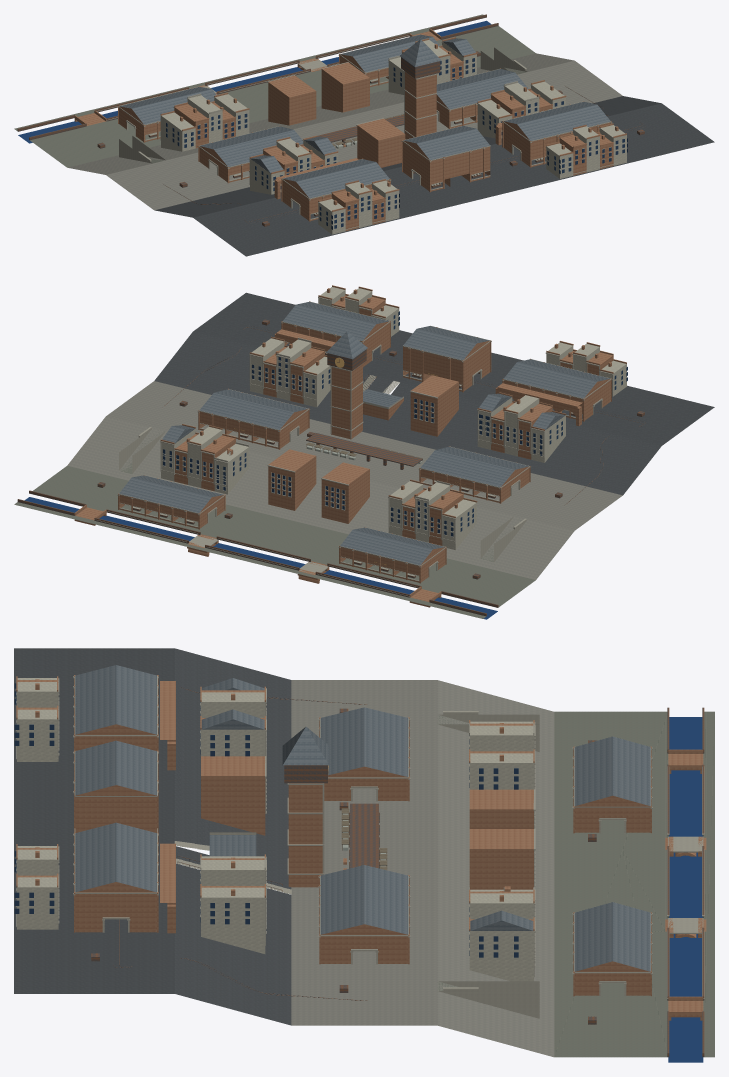
File: candidate.glb
The picture shows the model from 3 angles, top to bottom: view 1: azimuth 30°, elevation 25°; view 2: azimuth 150°, elevation 25°; view 3: azimuth 270°, elevation 25°; orthographic projection. The views are drawn at different scales.
Visible parts, largest first — view 1: kit.authority.brick.00, kit.authority.asphalt.00, kit.authority.slate.00, kit.authority.cobbles.00, kit.authority.plaster.00, kit.authority.quay.00, kit.authority.sandstone.00, kit.authority.iron.00, kit.authority.glass.00, kit.authority.water.00, kit.roofs.vesper.slate.00, kit.canal.vesper.coping.00; view 2: kit.authority.brick.00, kit.authority.cobbles.00, kit.authority.asphalt.00, kit.authority.slate.00, kit.authority.quay.00, kit.authority.plaster.00, kit.authority.sandstone.00, kit.authority.iron.00, kit.authority.glass.00, kit.authority.water.00, kit.canal.vesper.coping.00, kit.roofs.vesper.slate.00; view 3: kit.authority.cobbles.00, kit.authority.asphalt.00, kit.authority.brick.00, kit.authority.slate.00, kit.authority.quay.00, kit.authority.plaster.00, kit.authority.sandstone.00, kit.authority.water.00, kit.authority.iron.00, kit.roofs.vesper.slate.00, kit.authority.glass.00, kit.canal.vesper.coping.00.
Boxes of the visible parts, box(x1,y1,x2,y2) form: kit.authority.brick.00: box(74, 28, 626, 231); kit.authority.asphalt.00: box(155, 96, 714, 256); kit.authority.slate.00: box(119, 34, 610, 198); kit.authority.cobbles.00: box(68, 53, 622, 210); kit.authority.plaster.00: box(161, 40, 626, 234); kit.authority.quay.00: box(14, 14, 535, 167); kit.authority.sandstone.00: box(117, 34, 626, 232); kit.authority.iron.00: box(17, 14, 644, 226); kit.authority.glass.00: box(166, 58, 627, 229); kit.authority.water.00: box(18, 20, 491, 143); kit.roofs.vesper.slate.00: box(250, 38, 475, 173); kit.canal.vesper.coping.00: box(97, 35, 409, 120); kit.authority.brick.00: box(74, 285, 626, 607); kit.authority.cobbles.00: box(67, 381, 622, 579); kit.authority.asphalt.00: box(154, 292, 714, 495); kit.authority.slate.00: box(119, 301, 610, 565); kit.authority.quay.00: box(14, 430, 535, 618); kit.authority.plaster.00: box(161, 287, 626, 550); kit.authority.sandstone.00: box(117, 296, 613, 581); kit.authority.iron.00: box(17, 319, 644, 616); kit.authority.glass.00: box(163, 311, 627, 536); kit.authority.water.00: box(24, 497, 497, 619); kit.canal.vesper.coping.00: box(94, 511, 418, 596); kit.roofs.vesper.slate.00: box(162, 393, 565, 443); kit.authority.cobbles.00: box(291, 680, 554, 1057); kit.authority.asphalt.00: box(14, 648, 291, 1025); kit.authority.brick.00: box(16, 675, 706, 1020); kit.authority.slate.00: box(75, 665, 650, 971); kit.authority.quay.00: box(437, 711, 714, 1057); kit.authority.plaster.00: box(17, 678, 533, 981); kit.authority.sandstone.00: box(16, 676, 652, 1018); kit.authority.water.00: box(668, 717, 703, 1062); kit.authority.iron.00: box(91, 707, 704, 1057); kit.roofs.vesper.slate.00: box(201, 678, 533, 930); kit.authority.glass.00: box(14, 683, 518, 957); kit.canal.vesper.coping.00: box(667, 766, 704, 998).
Size of the model in its own units: 280 by 75.5 by 240.
Materials: 17 (14 with a texture image).
